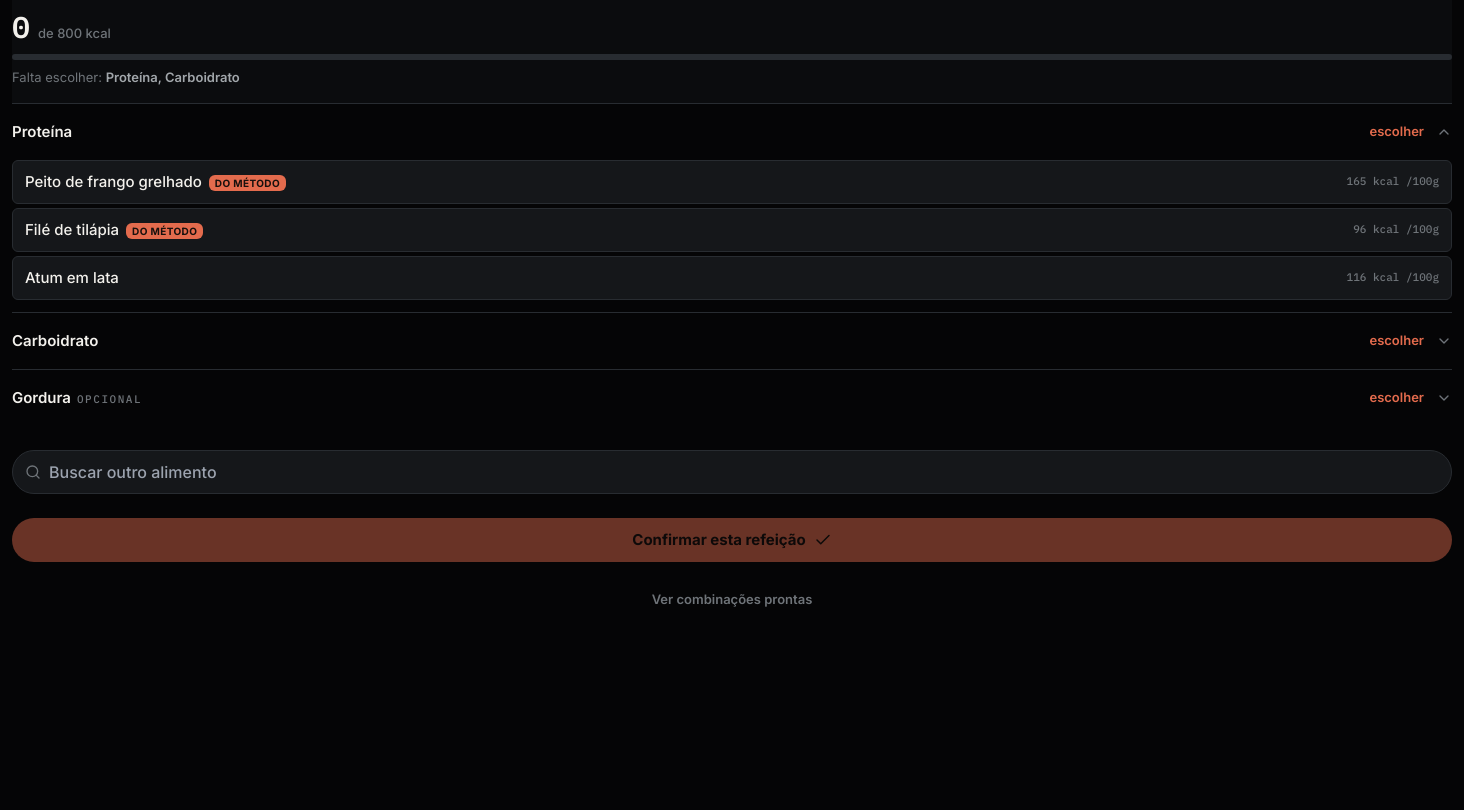
Test: falha ao gravar mantem a pessoa na tela com o que ela montou
Click the button with test id "opcao-chicken-breast" at {"x": 113, "y": 182}, box [12,160,1452,204]
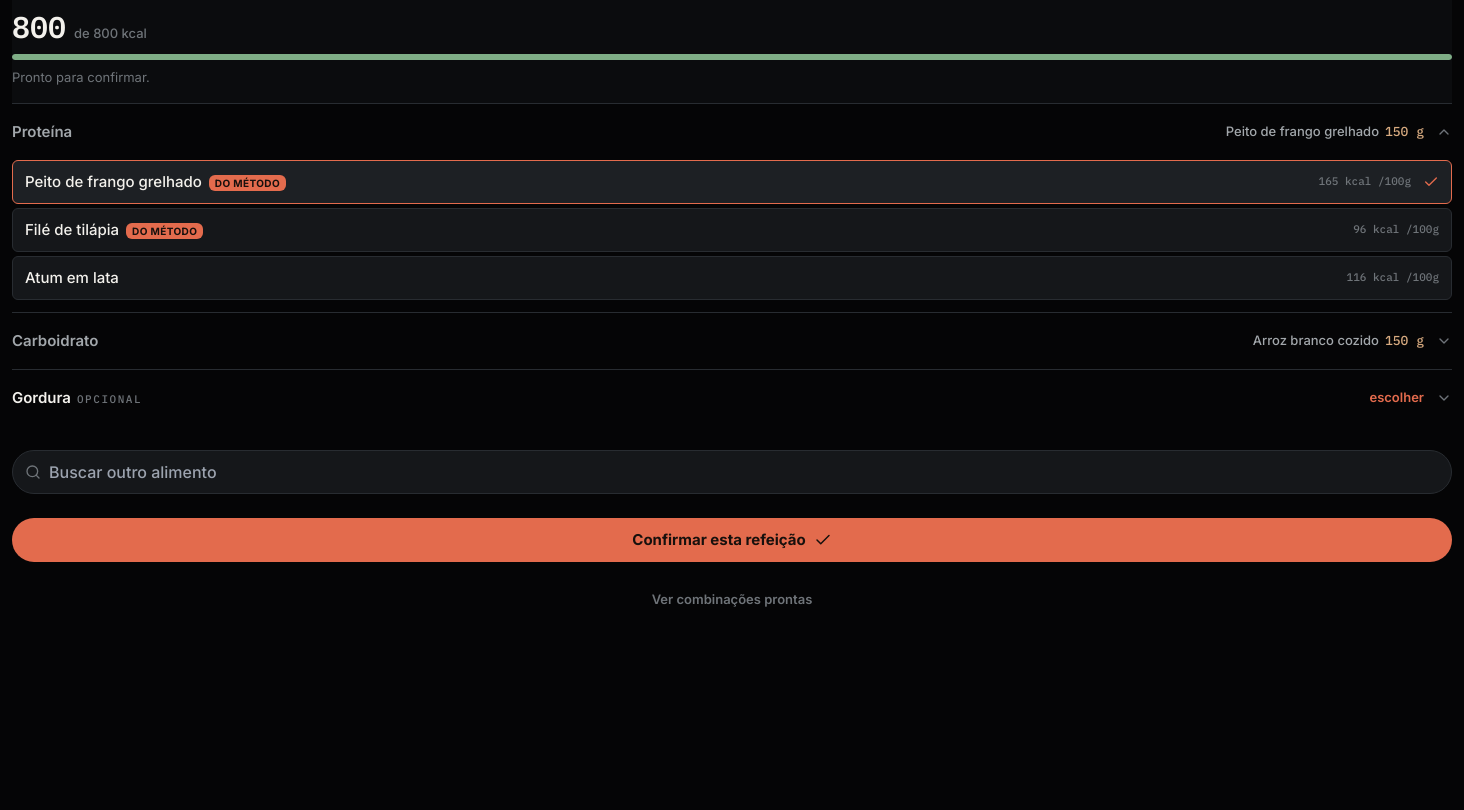
Click the button with test id "confirmar-montagem" at {"x": 732, "y": 540}, box [12,518,1452,562]
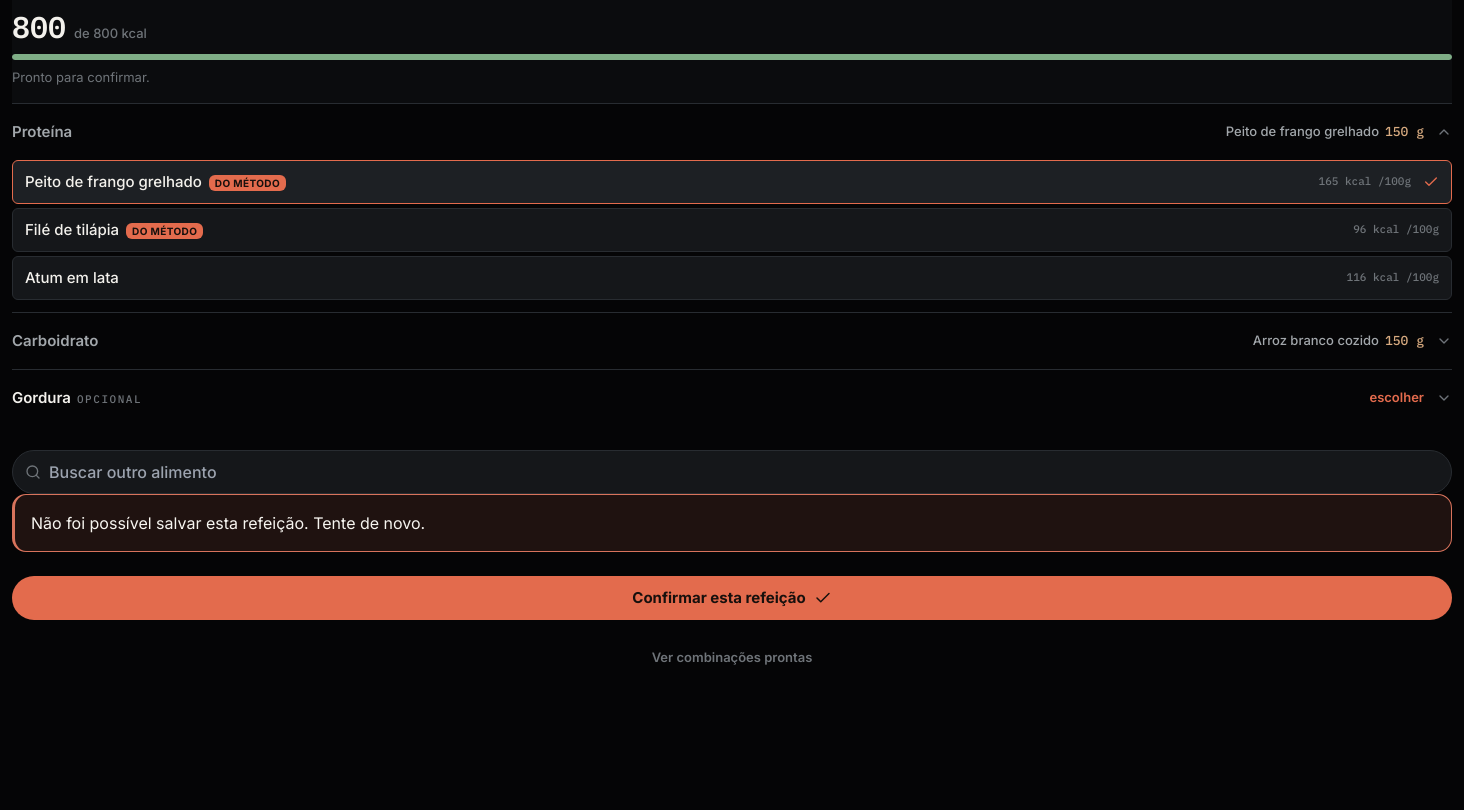
Expected: the text "Não foi possível salvar esta refeição" is shown, [31,513,425,533]
